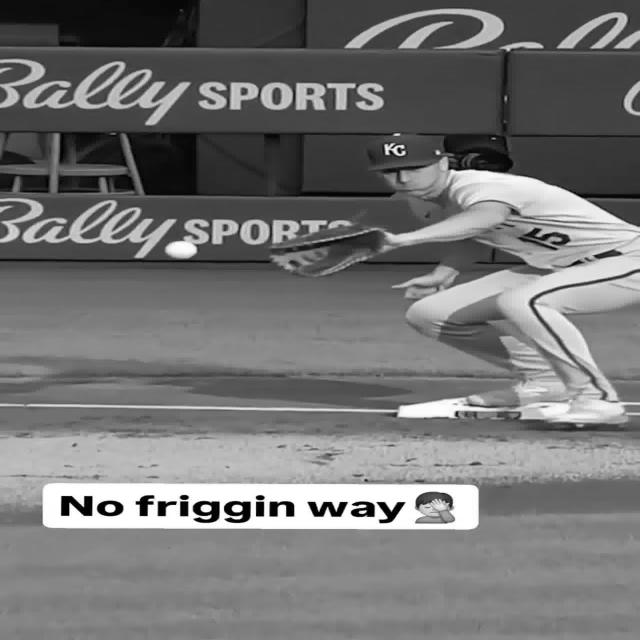base: (398, 398, 569, 420)
baseball: (164, 240, 198, 260)
baseball_glove: (271, 224, 385, 276)
shoe: (465, 379, 571, 408), (547, 398, 629, 428)
